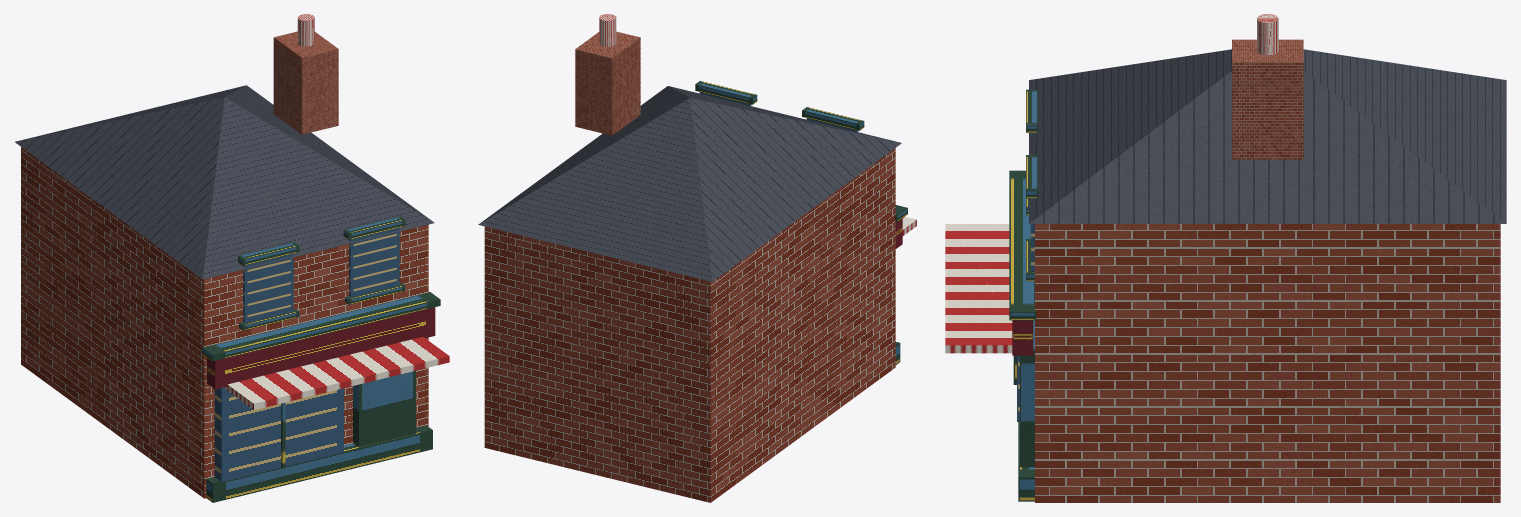
Rendered from house_terrace_03_shopfront.glb.
3 views of the same model, side by side, from view 1: azimuth 30°, elevation 25°; view 2: azimuth 150°, elevation 25°; view 3: azimuth 270°, elevation 25° (orthographic). The views are drawn at different scales.
Parts seen in each view (by area): view 1: House_Terrace_03_Shopfront; view 2: House_Terrace_03_Shopfront; view 3: House_Terrace_03_Shopfront.
Part boxes in pixels (<box>): House_Terrace_03_Shopfront: <box>15,14,449,502</box>; House_Terrace_03_Shopfront: <box>478,14,916,502</box>; House_Terrace_03_Shopfront: <box>945,14,1506,502</box>.
Size of the model in its own units: 5.7 by 8.6 by 9.4.
Materials: 1 (1 with a texture image).
